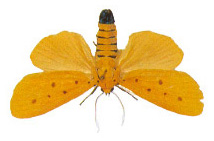Agape chloropyga: (10, 9, 206, 133)
moth: (9, 8, 205, 132)
